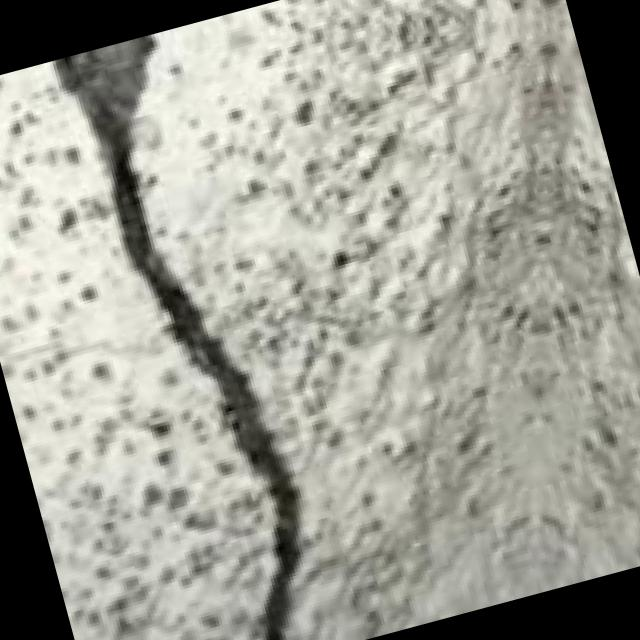crack: (5, 11, 399, 640)
